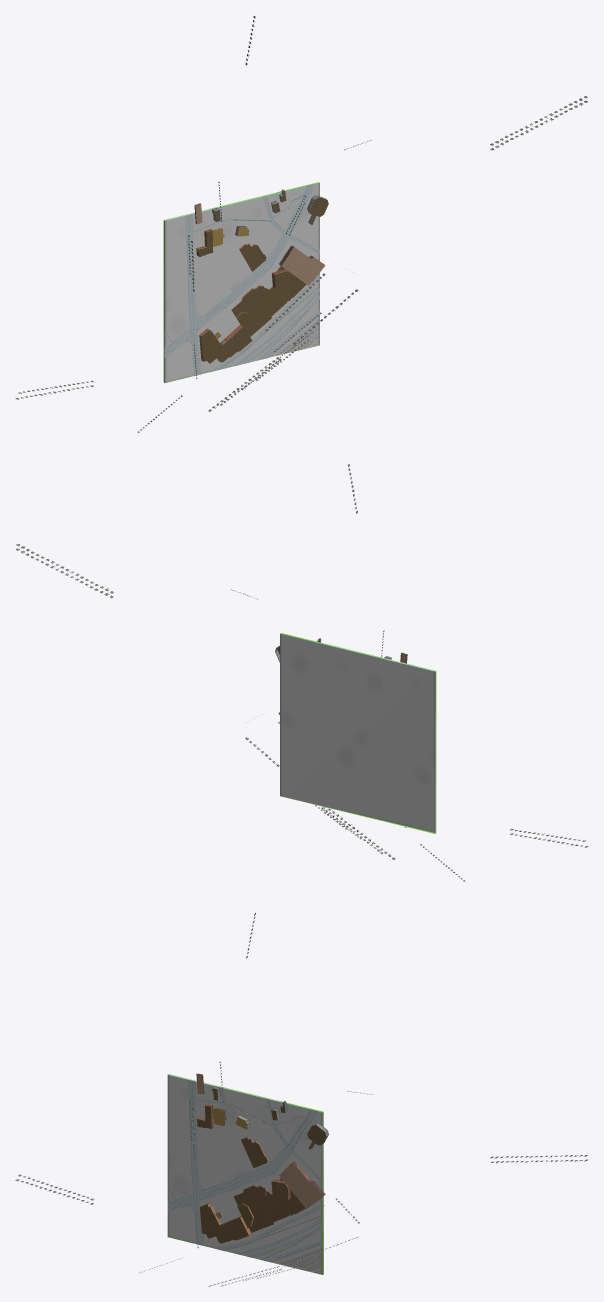
3 views of the same model, one above another, from view 1: azimuth 30°, elevation 25°; view 2: azimuth 150°, elevation 25°; view 3: azimuth 330°, elevation 25° (orthographic).
Parts seen in each view (by area): view 1: POLYGON, BUILDING, POLYLINE, FONT; view 2: POLYGON, FONT; view 3: POLYGON, BUILDING, POLYLINE, FONT.
Part boxes in pixels (bbox=[...]): POLYGON: bbox=[163, 182, 319, 382]; BUILDING: bbox=[194, 189, 328, 363]; POLYLINE: bbox=[164, 184, 319, 375]; FONT: bbox=[15, 16, 587, 432]; POLYGON: bbox=[280, 633, 436, 833]; FONT: bbox=[16, 464, 588, 881]; POLYGON: bbox=[167, 1074, 323, 1274]; BUILDING: bbox=[196, 1073, 328, 1243]; POLYLINE: bbox=[167, 1079, 322, 1274]; FONT: bbox=[15, 913, 587, 1286].
Size of the model in its own units: 2256 by 1466 by 29.
4 materials, 4 textured.
